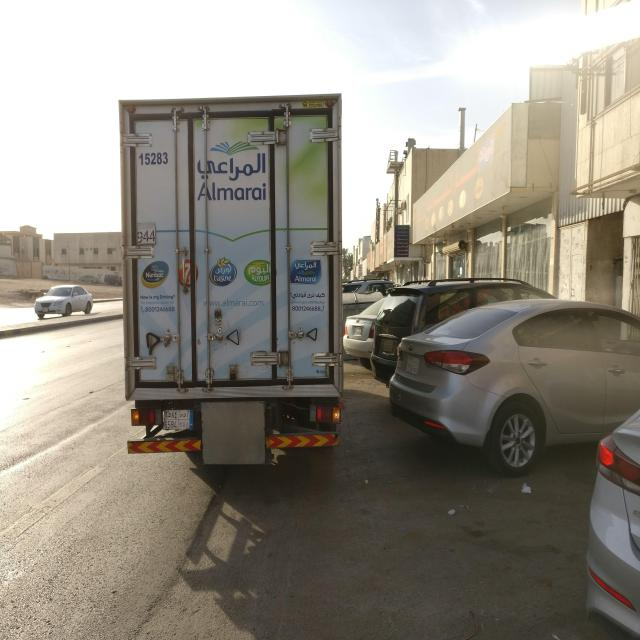license_plate: (164, 409, 193, 430), (405, 356, 420, 376), (353, 326, 361, 335)
